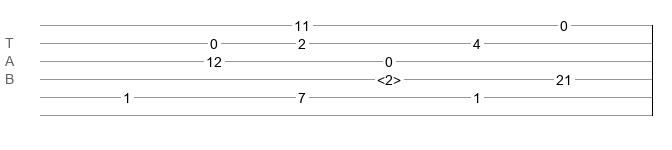0: (210, 36, 218, 46), (385, 54, 393, 64), (560, 18, 568, 28)
1: (123, 90, 131, 100), (473, 90, 481, 100)
11: (294, 18, 310, 28)
12: (206, 54, 222, 64)
2: (298, 36, 306, 46)
21: (556, 72, 572, 82)
4: (473, 36, 481, 46)
7: (298, 90, 306, 100)
harmonic: (377, 72, 401, 82)
